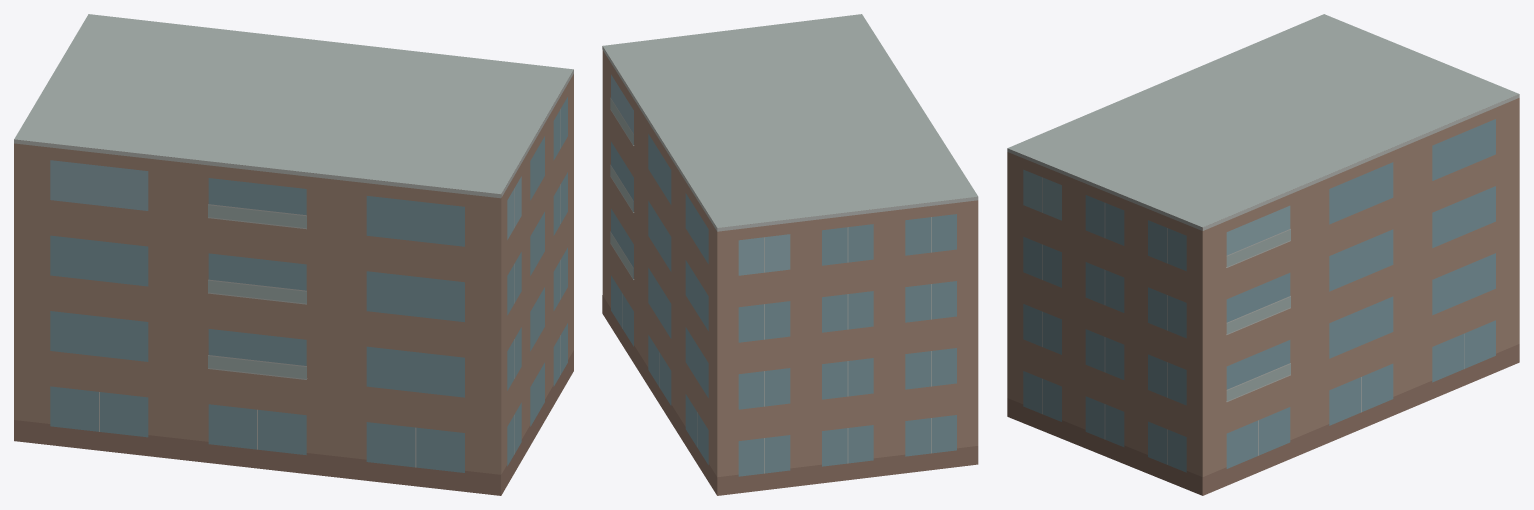
Rendered from survey-upis-33036626.glb.
3 views of the same model, side by side, from view 1: azimuth 30°, elevation 25°; view 2: azimuth 150°, elevation 25°; view 3: azimuth 270°, elevation 25° (orthographic). The views are drawn at different scales.
Visible parts, largest first — view 1: survey-upis-33036626.tmp; view 2: survey-upis-33036626.tmp; view 3: survey-upis-33036626.tmp.
Boxes of the visible parts, x1,y1,x2,y2 form: survey-upis-33036626.tmp: (14,14,573,495); survey-upis-33036626.tmp: (602,14,978,495); survey-upis-33036626.tmp: (1007,14,1519,495).
Bounding box in the file's own units: 30.7 × 18 × 31.13.
